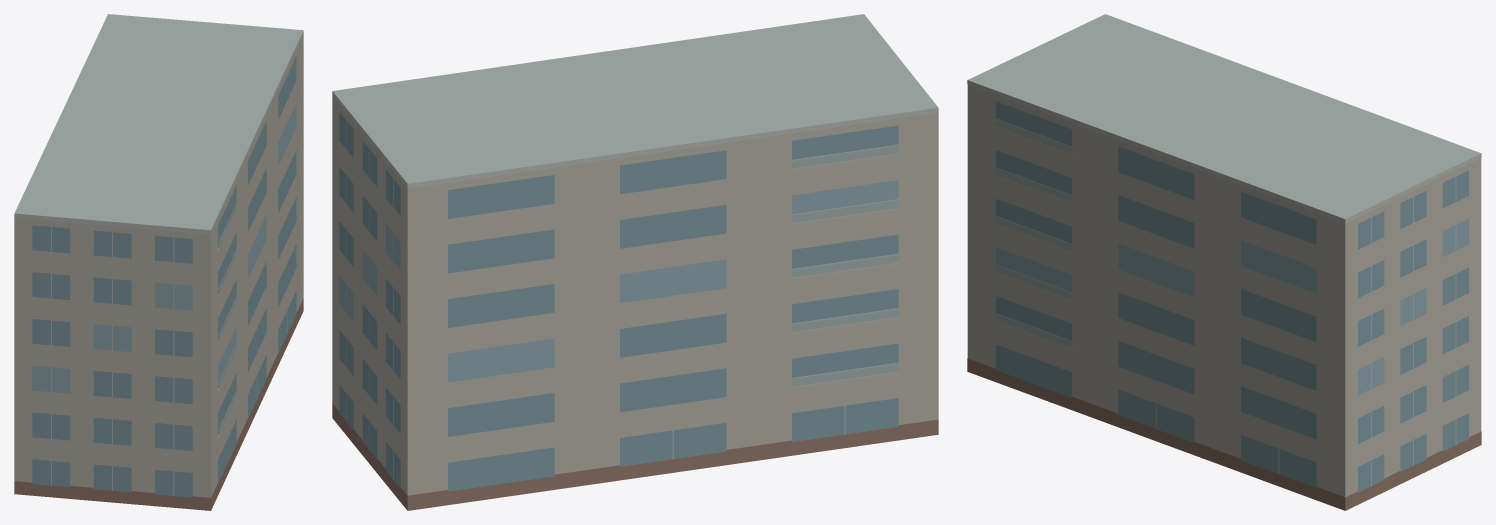
Rendered from survey-upis-32971365.glb.
The picture shows the model from 3 angles, left to right: view 1: azimuth 30°, elevation 25°; view 2: azimuth 150°, elevation 25°; view 3: azimuth 270°, elevation 25°; orthographic projection. The views are drawn at different scales.
Parts seen in each view (by area): view 1: survey-upis-32971365.tmp; view 2: survey-upis-32971365.tmp; view 3: survey-upis-32971365.tmp.
Part boxes in pixels (x1,y1,x2,y2): survey-upis-32971365.tmp: [14, 14, 303, 510]; survey-upis-32971365.tmp: [332, 14, 938, 510]; survey-upis-32971365.tmp: [967, 14, 1481, 510].
Size of the model in its own units: 24.61 by 16.3 by 26.04.
